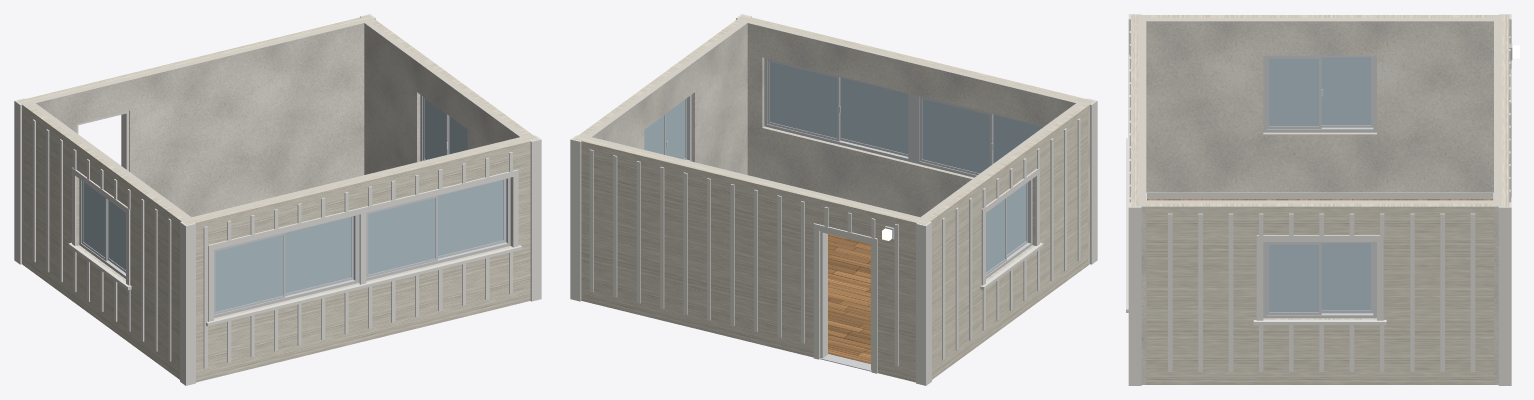
File: cabin_upper.glb
The picture shows the model from 3 angles, left to right: view 1: azimuth 30°, elevation 25°; view 2: azimuth 150°, elevation 25°; view 3: azimuth 270°, elevation 25°; orthographic projection. The views are drawn at different scales.
Visible parts, largest first — view 1: cabin_upper_plaster, cabin_upper_siding, cabin_upper_trim_w, cabin_upper_glass, cabin_upper_alu; view 2: cabin_upper_siding, cabin_upper_plaster, cabin_upper_trim_w, cabin_upper_glass, cabin_upper_alu, cabin_upper_wood; view 3: cabin_upper_plaster, cabin_upper_siding, cabin_upper_trim_w, cabin_upper_glass, cabin_upper_alu, cabin_upper_wood.
Boxes of the visible parts, left/top/right/bottom form: cabin_upper_plaster: left=21, top=17, right=534, bottom=265; cabin_upper_siding: left=17, top=15, right=538, bottom=382; cabin_upper_trim_w: left=14, top=14, right=541, bottom=385; cabin_upper_glass: left=83, top=98, right=503, bottom=311; cabin_upper_alu: left=79, top=95, right=510, bottom=317; cabin_upper_siding: left=573, top=15, right=1094, bottom=382; cabin_upper_plaster: left=577, top=17, right=1090, bottom=265; cabin_upper_trim_w: left=570, top=14, right=1097, bottom=385; cabin_upper_glass: left=644, top=61, right=1043, bottom=272; cabin_upper_alu: left=644, top=58, right=1044, bottom=371; cabin_upper_wood: left=828, top=234, right=870, bottom=363; cabin_upper_plaster: left=1138, top=15, right=1501, bottom=384; cabin_upper_siding: left=1131, top=15, right=1509, bottom=384; cabin_upper_trim_w: left=1126, top=14, right=1511, bottom=385; cabin_upper_glass: left=1269, top=57, right=1370, bottom=311; cabin_upper_alu: left=1263, top=55, right=1376, bottom=318; cabin_upper_wood: left=1147, top=199, right=1493, bottom=200.
Size of the model in its own units: 6.13 by 2.6 by 5.21.
9 materials, 3 textured.
